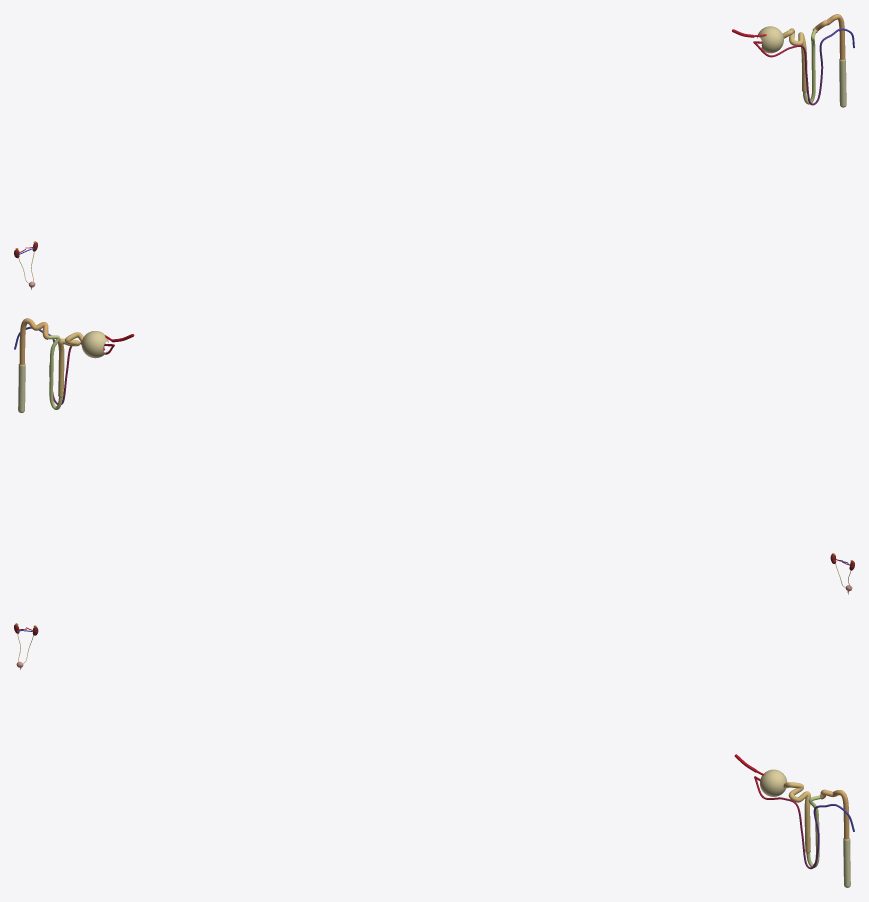
Rendered from kidney.glb.
3 renders of one model, top to bottom at view 1: azimuth 30°, elevation 25°; view 2: azimuth 150°, elevation 25°; view 3: azimuth 330°, elevation 25°, orthographic.
Visible parts, largest first — view 1: tubule, peritubular, capsule; view 2: tubule, capsule; view 3: tubule, peritubular, capsule.
Part boxes in pixels (x1,y1,x2,y2): tubule: [782, 14, 846, 107]; peritubular: [732, 28, 854, 105]; capsule: [757, 26, 783, 53]; tubule: [18, 318, 83, 412]; capsule: [81, 331, 108, 358]; tubule: [783, 782, 850, 887]; peritubular: [734, 754, 854, 869]; capsule: [760, 769, 787, 796].
Bounding box in the file's own units: 67.62 × 8.1 × 1.9.
